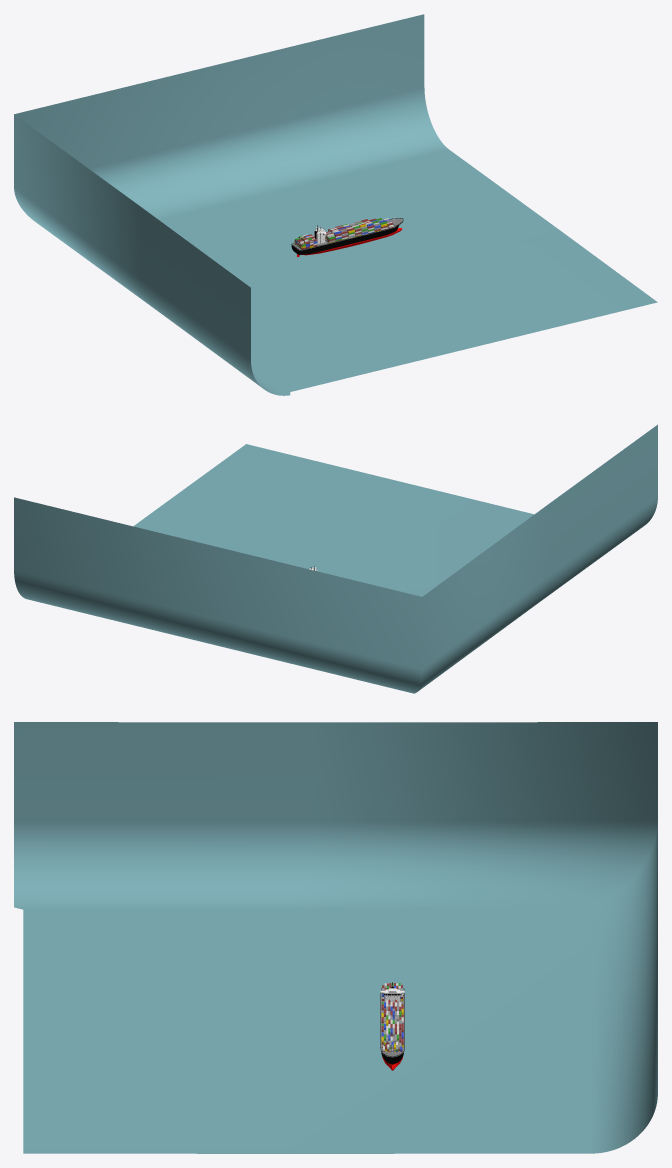
The model's file is cargoShip.gltf.
3 renders of one model, top to bottom at view 1: azimuth 30°, elevation 25°; view 2: azimuth 150°, elevation 25°; view 3: azimuth 270°, elevation 25°, orthographic. The views are drawn at different scales.
Parts seen in each view (by area): view 1: Plane.005, Cube.004, Gear; view 2: Plane.005; view 3: Plane.005, Cube.004, Gear.
Part boxes in pixels (bbox=[...]): Plane.005: bbox=[14, 14, 657, 395]; Cube.004: bbox=[294, 218, 393, 249]; Gear: bbox=[291, 214, 403, 256]; Plane.005: bbox=[14, 424, 657, 693]; Plane.005: bbox=[14, 722, 657, 1153]; Cube.004: bbox=[381, 983, 403, 1051]; Gear: bbox=[380, 988, 404, 1070].
Size of the model in its own units: 286 by 78.07 by 286.
